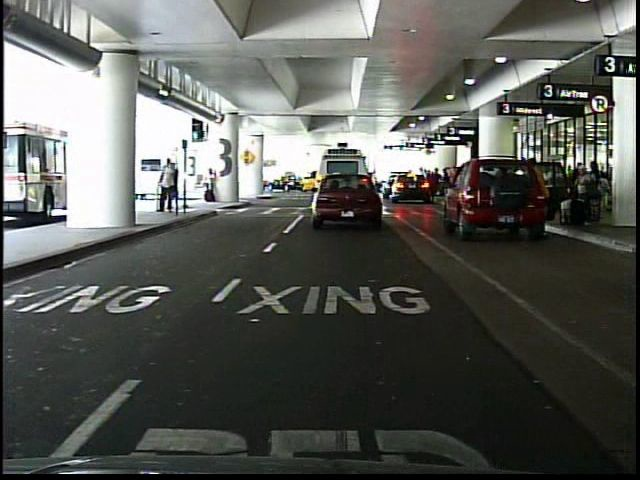person: (529, 156, 558, 234), (158, 157, 176, 214), (170, 163, 185, 212), (202, 166, 221, 204)
